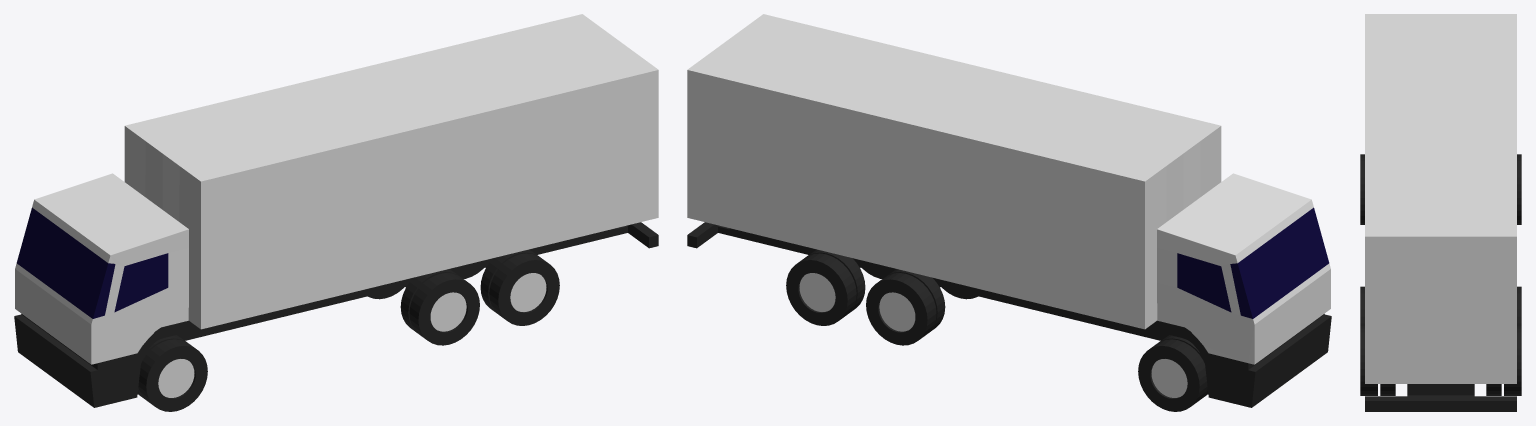
The model's file is Truck-kun.fbx.
3 renders of one model, left to right at view 1: azimuth 30°, elevation 25°; view 2: azimuth 150°, elevation 25°; view 3: azimuth 270°, elevation 25°, orthographic.
Parts seen in each view (by area): view 1: Cube; view 2: Cube; view 3: Cube.
Boxes of the visible parts, <box> form: Cube: <box>14,14,658,411</box>; Cube: <box>687,14,1331,411</box>; Cube: <box>1360,14,1521,411</box>.
Bounding box in the file's own units: 12.55 × 4.67 × 3.1.
